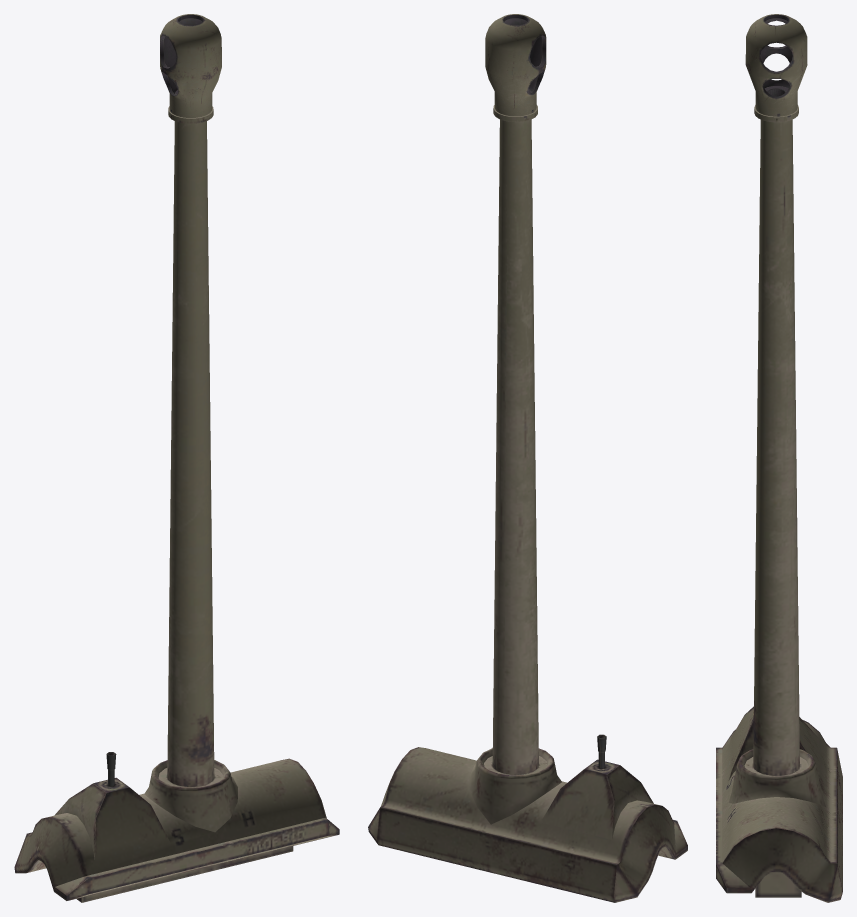
The model's file is Gun_05.glb.
3 views of the same model, side by side, from view 1: azimuth 30°, elevation 25°; view 2: azimuth 150°, elevation 25°; view 3: azimuth 270°, elevation 25° (orthographic).
Visible parts, largest first — view 1: set_0_group_0; view 2: set_0_group_0; view 3: set_0_group_0.
Part boxes in pixels (x1=…): set_0_group_0: x1=14, y1=14, x2=339, y2=902; set_0_group_0: x1=368, y1=14, x2=687, y2=902; set_0_group_0: x1=716, y1=14, x2=842, y2=902.
Bounding box in the file's own units: 1.33 × 3.95 × 0.5453.
1 material, 1 textured.
